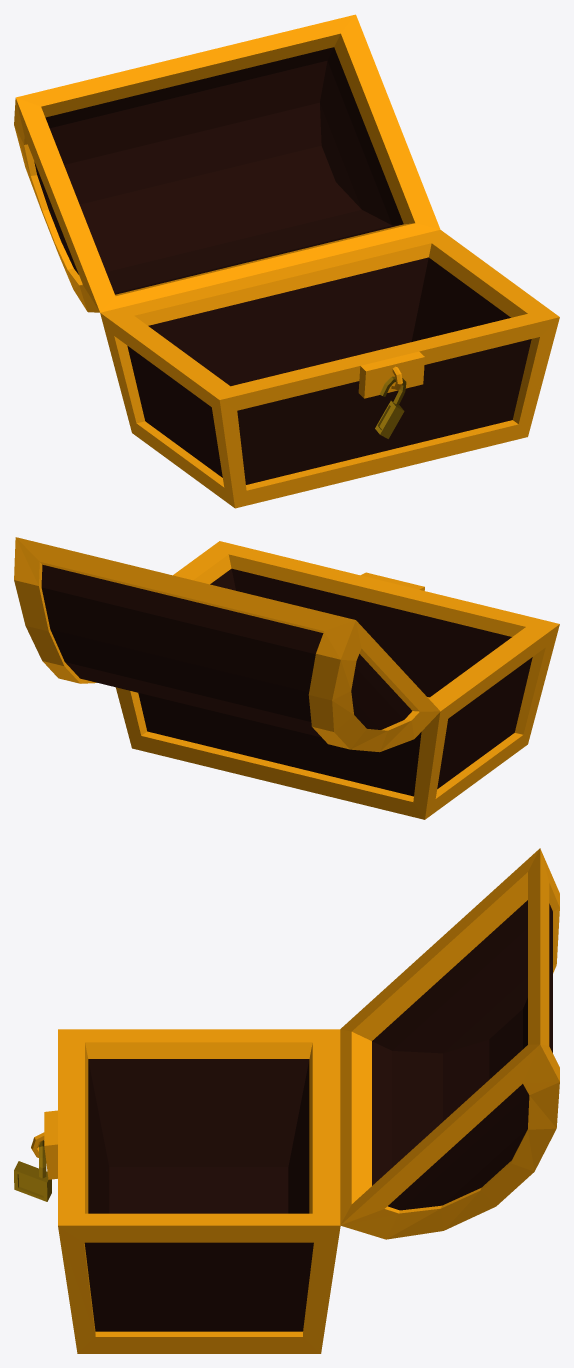
The model's file is prop_chest_2.FBX.
3 views of the same model, one above another, from view 1: azimuth 30°, elevation 25°; view 2: azimuth 150°, elevation 25°; view 3: azimuth 270°, elevation 25° (orthographic). The views are drawn at different scales.
Visible parts, largest first — view 1: Object002; view 2: Object002; view 3: Object002.
Boxes of the visible parts, <box> form: Object002: <box>14,14,559,508</box>; Object002: <box>14,537,559,819</box>; Object002: <box>14,848,559,1353</box>.
Size of the model in its own units: 0.6433 by 0.4939 by 0.7562.
